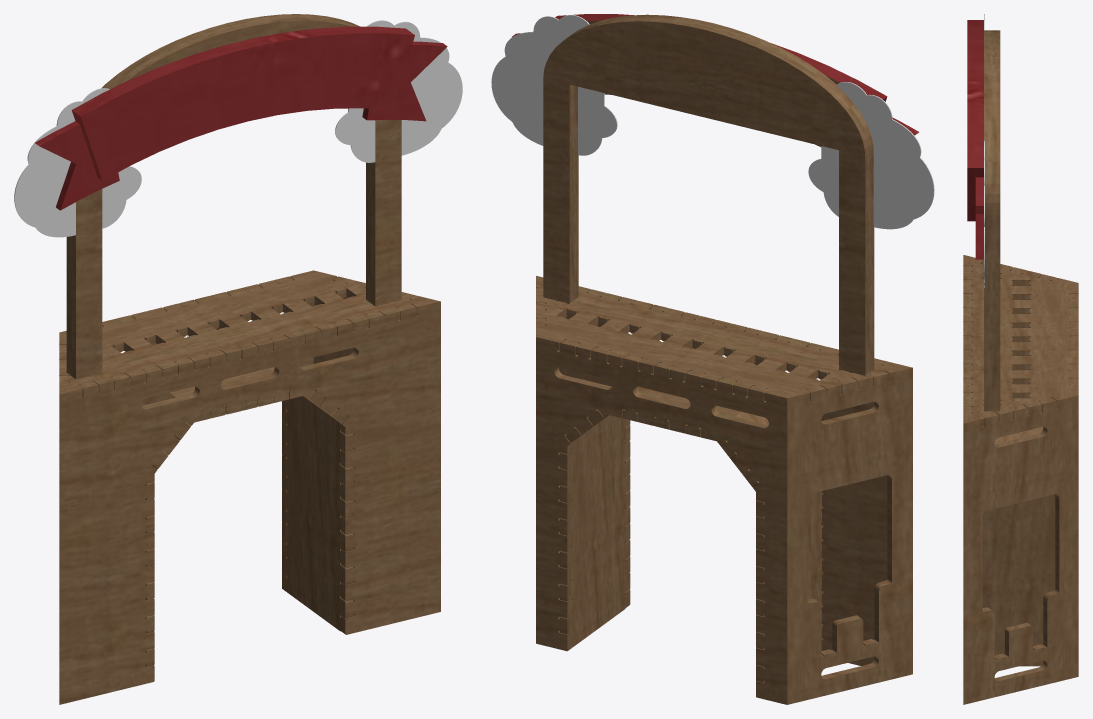
File: puppet.glb
3 views of the same model, side by side, from view 1: azimuth 30°, elevation 25°; view 2: azimuth 150°, elevation 25°; view 3: azimuth 270°, elevation 25° (orthographic). The views are drawn at different scales.
Visible parts, largest first — view 1: Assem62; view 2: Assem62; view 3: Assem62.
Boxes of the visible parts, x1,y1,x2,y2 form: Assem62: (14, 14, 462, 704); Assem62: (491, 14, 934, 704); Assem62: (963, 14, 1078, 704).
Size of the model in its own units: 1.07 by 1.42 by 0.2639.
3 materials, 2 textured.
